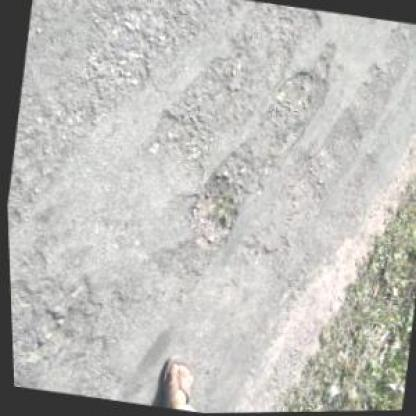pothole: (178, 160, 246, 252)
